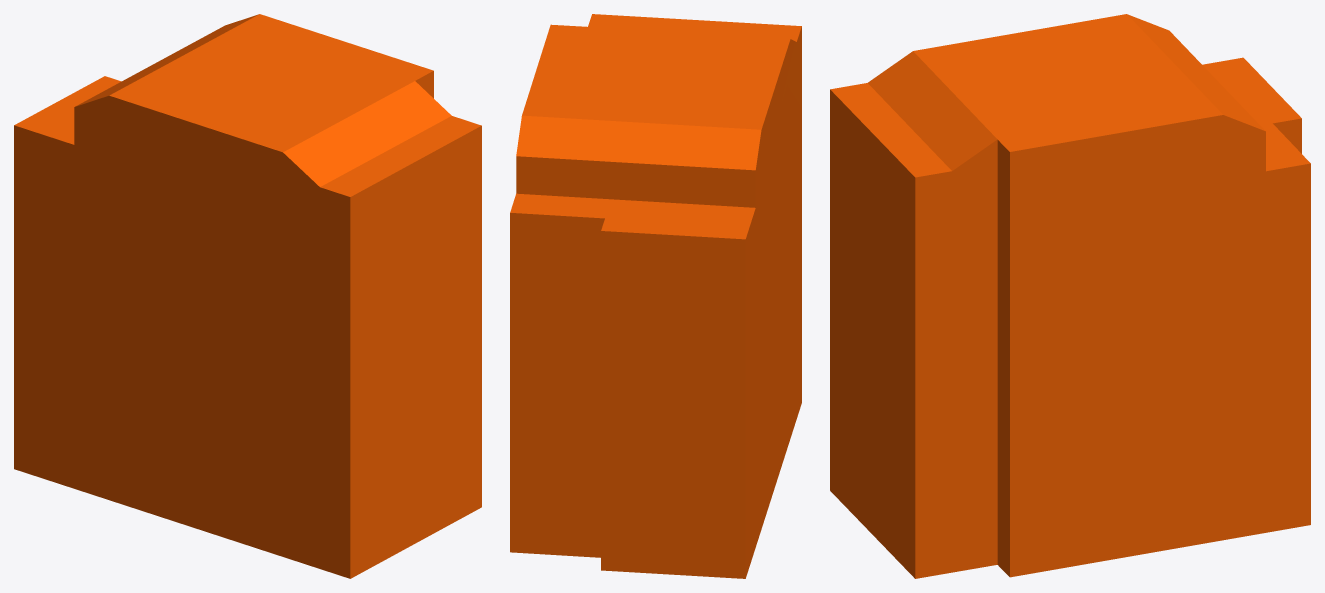
File: DEHB01ALs0000fiI.dae
3 views of the same model, side by side, from view 1: azimuth 30°, elevation 25°; view 2: azimuth 150°, elevation 25°; view 3: azimuth 270°, elevation 25° (orthographic). The views are drawn at different scales.
Bounding box in the file's own units: 10.74 × 13.65 × 13.33.
